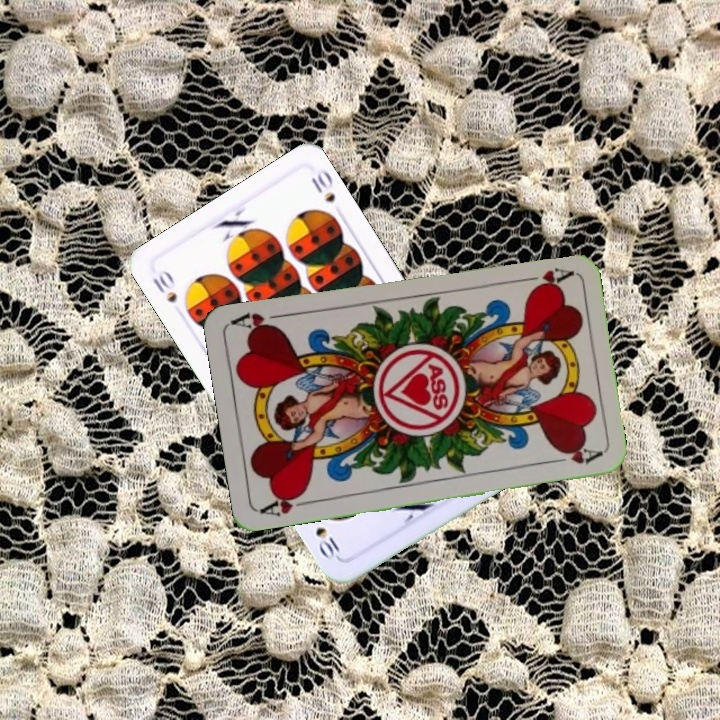HA: (257, 487, 316, 519), (514, 263, 574, 292)
S10: (148, 265, 180, 306)
